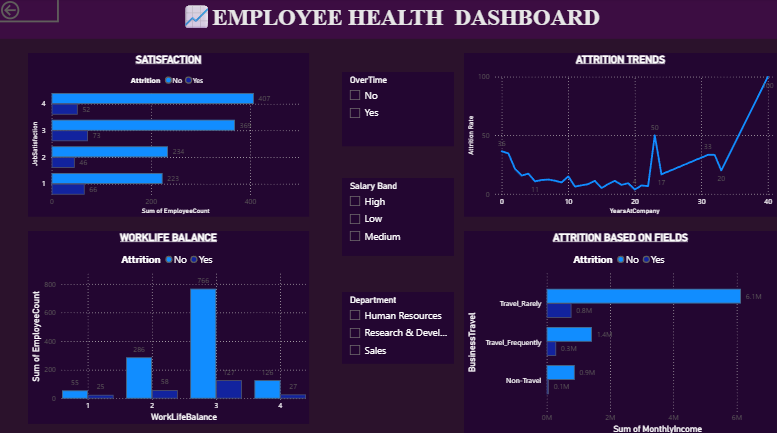

What the dashboard file says about the page in this screenshot:
{"tool":"powerbi","page":{"name":"Page 6","canvas":[1280,720],"ordinal":5},"visuals":[{"type":"textbox","box":[0,0,1280,67.2],"z":0},{"type":"actionButton","box":[0,0,100,40],"z":1000},{"type":"actionButton","box":[0,0,100,40],"z":2000},{"type":"slicer","fields":{"Values":["IBM HR xls.Department"]},"box":[565.2,483.1,184,118.3],"z":3000},{"type":"slicer","fields":{"Values":["IBM HR xls.Salary Band"]},"box":[565.2,295.8,184,128.2],"z":4000},{"type":"slicer","fields":{"Values":["IBM HR xls.OverTime"]},"box":[565.2,121.6,184,121.6],"z":5000},{"type":"lineChart","title":"ATTRITION TRENDS","fields":{"Category":["IBM HR xls.YearsAtCompany"],"Y":["IBM HR xls.Attrition Rate"]},"box":[765.7,90.4,514.3,269.5],"z":6000},{"type":"clusteredBarChart","title":"SATISFACTION","fields":{"Category":["IBM HR xls.JobSatisfaction"],"Y":["Sum(IBM HR xls.EmployeeCount)"],"Series":["IBM HR xls.Attrition"]},"box":[49.3,90.4,461.7,269.5],"z":7000},{"type":"clusteredColumnChart","title":"WORKLIFE BALANCE","fields":{"Category":["IBM HR xls.WorkLifeBalance"],"Y":["Sum(IBM HR xls.EmployeeCount)"],"Series":["IBM HR xls.Attrition"]},"box":[49.3,382.8,461.7,317.1],"z":8000},{"type":"clusteredBarChart","title":"ATTRITION BASED ON FIELDS","fields":{"Series":["IBM HR xls.Attrition"],"Y":["Sum(IBM HR xls.MonthlyIncome)"],"Category":["IBM HR xls.BusinessTravel"]},"box":[765.7,382.8,514.3,336.8],"z":9000}]}

Visuals, with their boxes in screenshot pixels (x1, y1, x2, y2), scaled from the page's 1280x720 canvas onto the 777x433 screenshot:
textbox: <bbox>0, 0, 776, 40</bbox>
actionButton: <bbox>0, 0, 61, 24</bbox>
actionButton: <bbox>0, 0, 61, 24</bbox>
slicer - IBM HR xls.Department: <bbox>343, 291, 455, 362</bbox>
slicer - IBM HR xls.Salary Band: <bbox>343, 178, 455, 255</bbox>
slicer - IBM HR xls.OverTime: <bbox>343, 73, 455, 146</bbox>
"ATTRITION TRENDS" lineChart: <bbox>465, 54, 776, 216</bbox>
"SATISFACTION" clusteredBarChart: <bbox>30, 54, 310, 216</bbox>
"WORKLIFE BALANCE" clusteredColumnChart: <bbox>30, 230, 310, 421</bbox>
"ATTRITION BASED ON FIELDS" clusteredBarChart: <bbox>465, 230, 776, 432</bbox>
